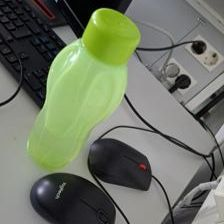bottle: (24, 8, 142, 172)
